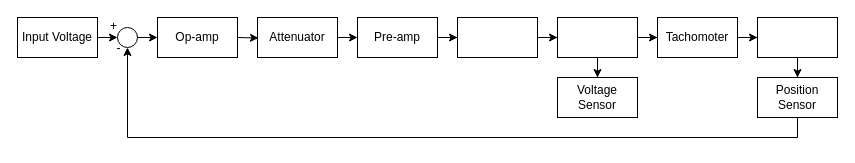
The diagram is 855 pixels wide and 163 high, and some of its shapes have lost their labels. Here are the shapes that lost their labels. From the top down, the centre of each, then its label:
At [497,37]: "Servo Amplifier".
At [597,37]: "DC Motor".
At [797,37]: "Output Potentiometer".
